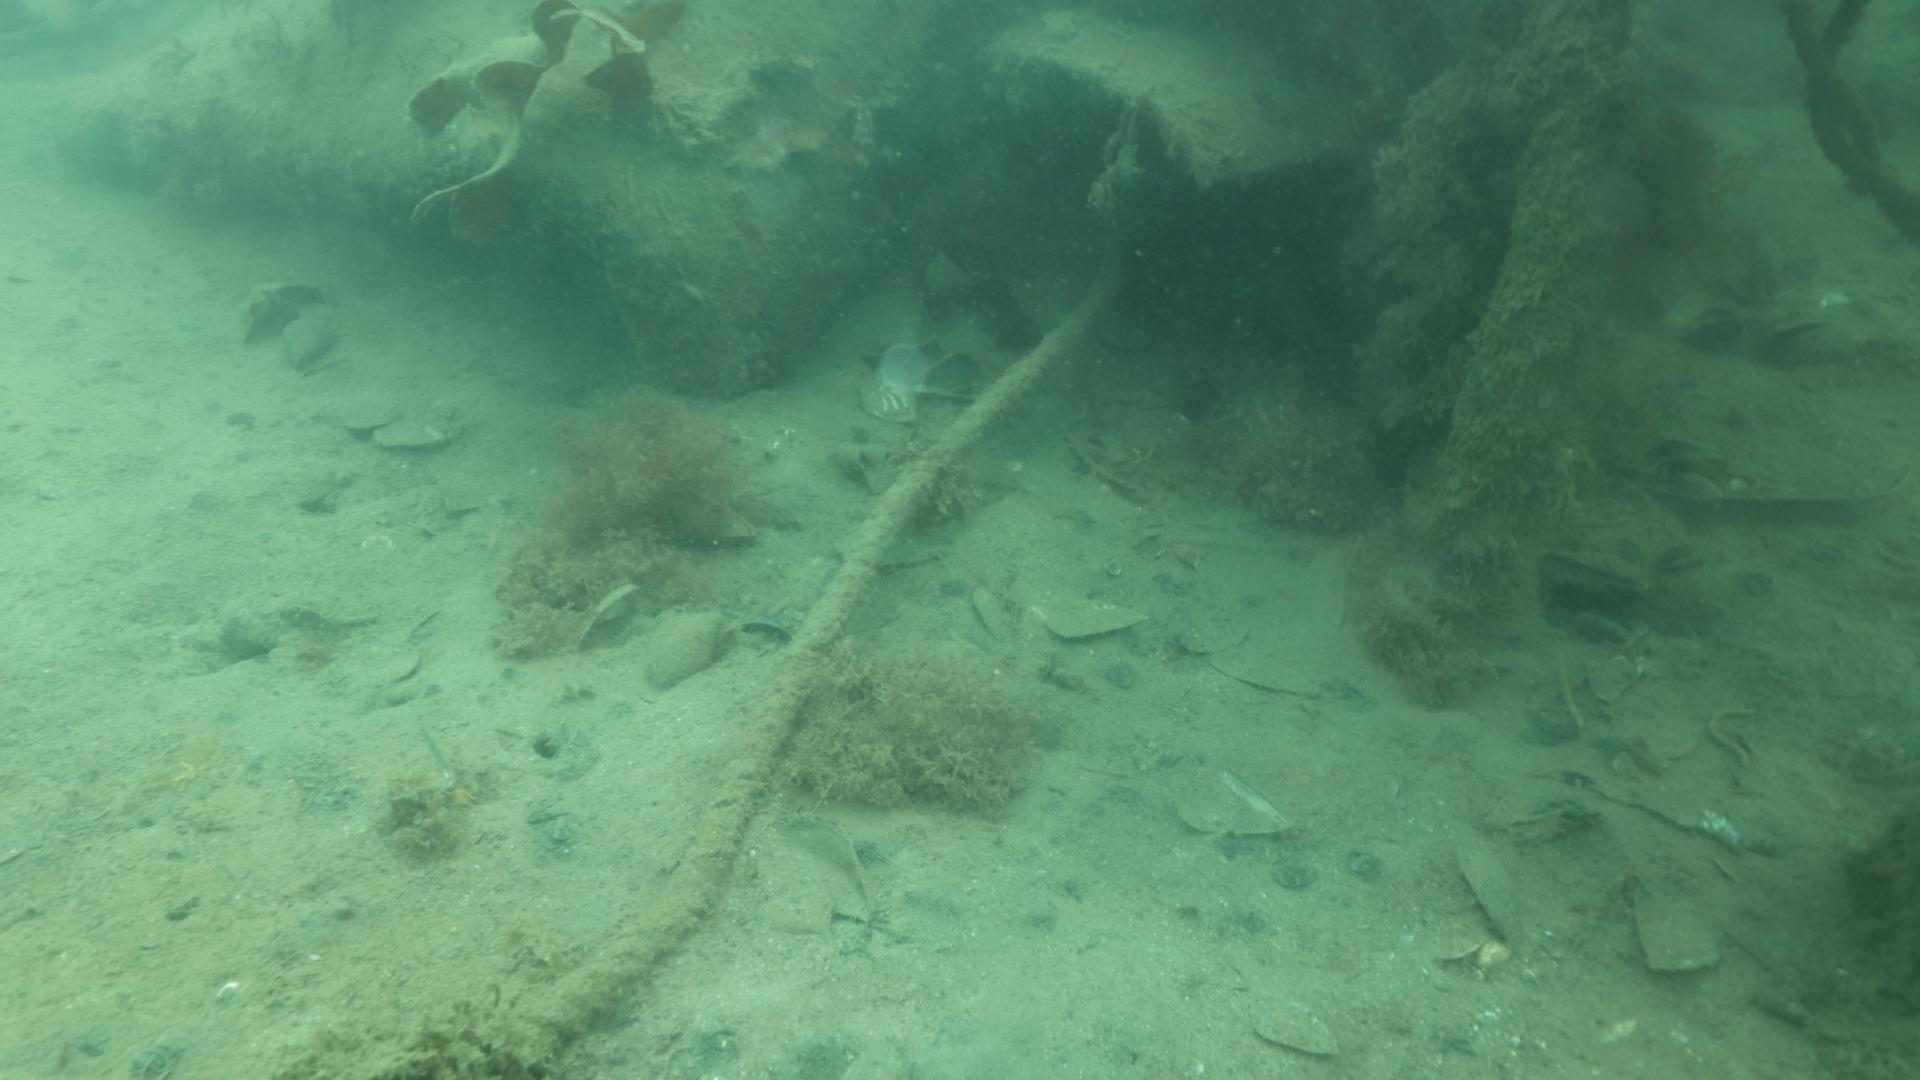rope: (531, 309, 1081, 1027)
